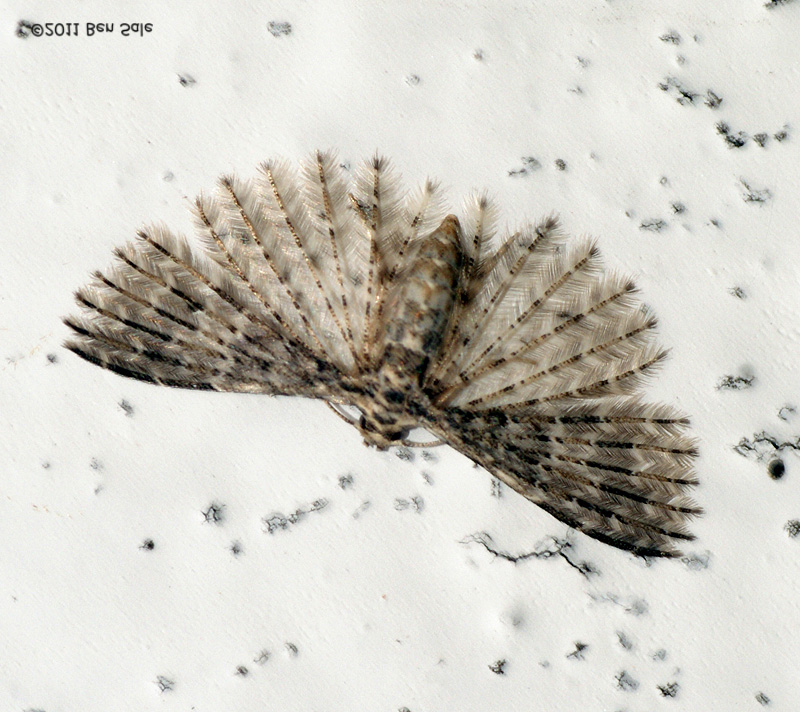Alucitidae: (59, 126, 706, 573)
moth: (61, 128, 708, 575)
